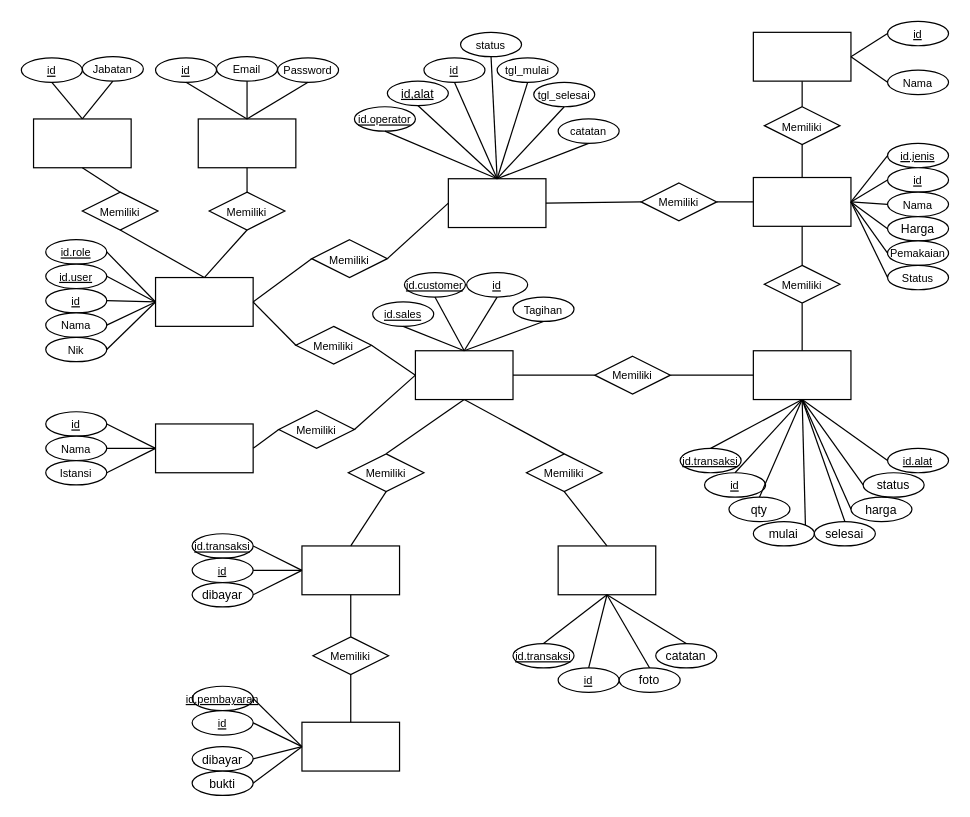
The diagram is 970 pixels wide and 817 high, and some of its shapes have lost their labels. Here are the shapes that lost their labels. From the top down, the box of each, then its label:
(752, 31, 851, 81): Jenis alat
(32, 118, 131, 168): Role
(197, 118, 296, 168): User
(447, 178, 546, 228): Perawatan
(752, 176, 851, 226): Inventory
(154, 276, 253, 326): Karyawan
(414, 350, 513, 400): Transaksi
(752, 350, 851, 400): Detail Transaksi
(154, 423, 253, 473): Customer
(301, 545, 400, 595): Pembayaran
(557, 545, 656, 595): Dokumentasi transaksi
(301, 721, 400, 771): Detail pembayaran
